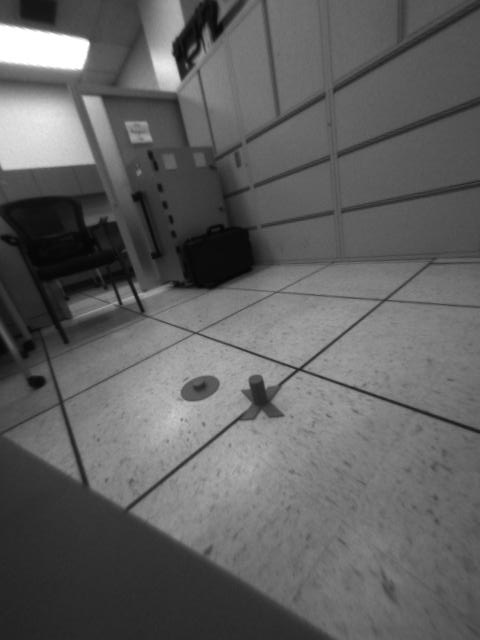X: (240, 374, 285, 421)
